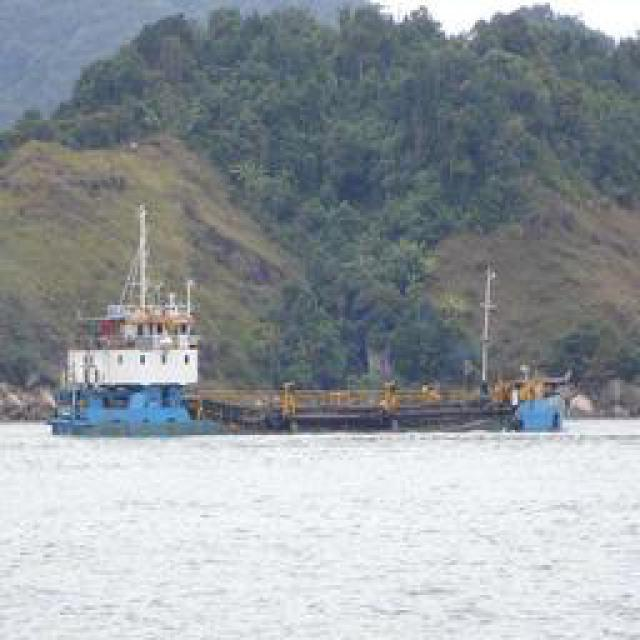Ship: (52, 207, 572, 435)
